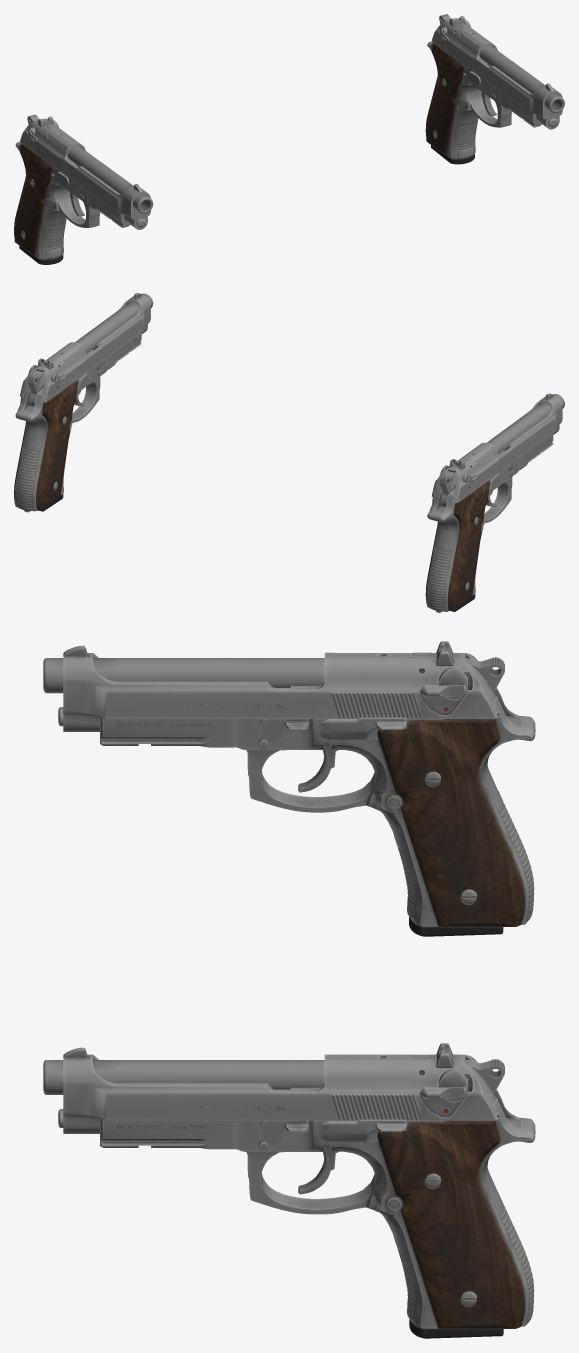
Rendered from dual_elite.glb.
3 renders of one model, top to bottom at view 1: azimuth 30°, elevation 25°; view 2: azimuth 150°, elevation 25°; view 3: azimuth 270°, elevation 25°, orthographic. The views are drawn at different scales.
Visible parts, largest first — view 1: DualElite_CS2; view 2: DualElite_CS2; view 3: DualElite_CS2.
Part boxes in pixels (x1=…): DualElite_CS2: x1=14, y1=14, x2=564, y2=264; DualElite_CS2: x1=14, y1=293, x2=564, y2=612; DualElite_CS2: x1=43, y1=641, x2=535, y2=1338.
Bounding box in the file's own units: 0.5505 × 0.1648 × 0.2629.
1 material, 1 textured.
